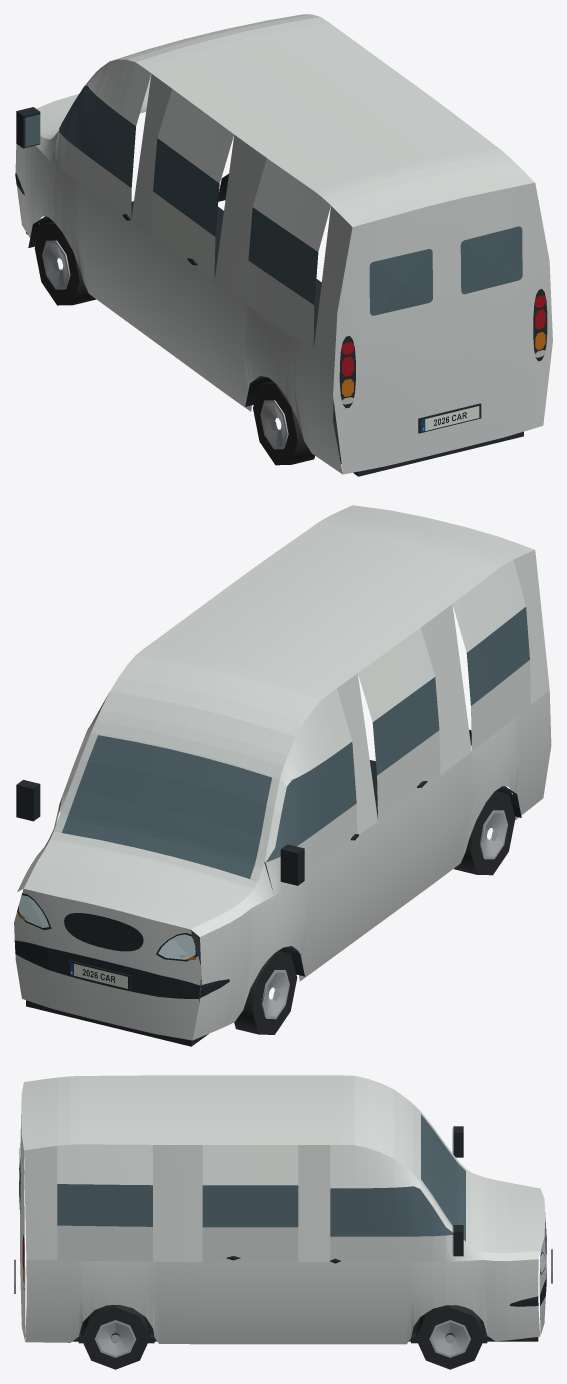
File: Entrega_17_LOD2.glb
3 views of the same model, one above another, from view 1: azimuth 30°, elevation 25°; view 2: azimuth 150°, elevation 25°; view 3: azimuth 270°, elevation 25° (orthographic). The views are drawn at different scales.
Visible parts, largest first — view 1: Body, Glass, Wheel_RL, Wheel_FL, Plates; view 2: Body, Glass, Wheel_FL, Wheel_RL, Headlights, Plates; view 3: Body, Glass, Wheel_FR, Wheel_RR.
Part boxes in pixels (bbox=[...]): Body: bbox=[15, 14, 552, 476]; Glass: bbox=[25, 85, 522, 315]; Wheel_RL: bbox=[253, 381, 314, 465]; Wheel_FL: bbox=[34, 221, 95, 305]; Plates: bbox=[421, 406, 479, 431]; Body: bbox=[14, 505, 551, 1046]; Glass: bbox=[59, 607, 529, 878]; Wheel_FL: bbox=[234, 950, 297, 1034]; Wheel_RL: bbox=[454, 791, 515, 875]; Headlights: bbox=[18, 895, 195, 959]; Plates: bbox=[70, 963, 127, 988]; Body: bbox=[14, 1075, 552, 1344]; Glass: bbox=[19, 1114, 465, 1254]; Wheel_FR: bbox=[415, 1305, 484, 1369]; Wheel_RR: bbox=[81, 1304, 149, 1369].
Size of the model in its own units: 2.42 by 2.38 by 5.23.
10 materials, 1 textured.
